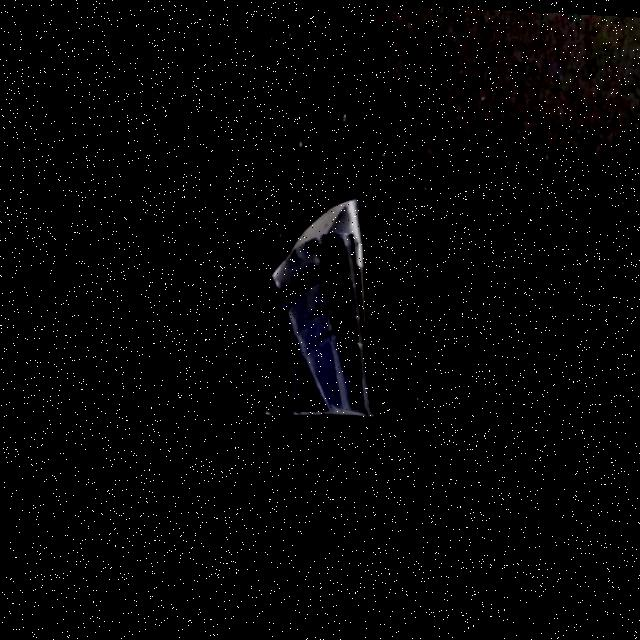can: (244, 190, 393, 428)
